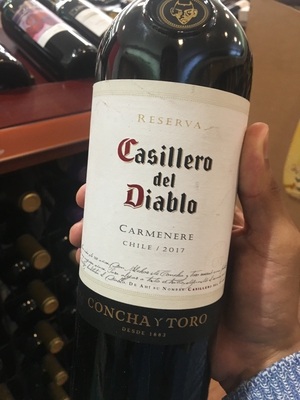casillero del diablo carmenere: (73, 6, 248, 400)
